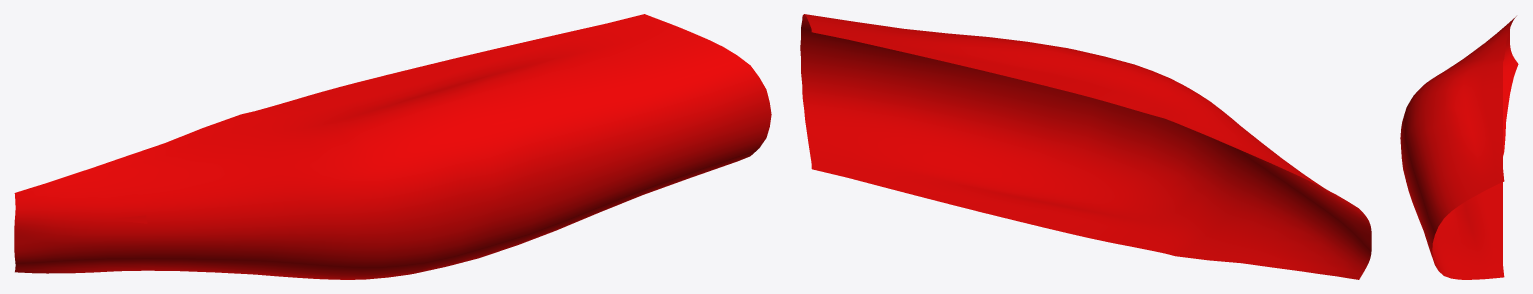
The model's file is rafale_highlight_04_verriere.fbx.
The picture shows the model from 3 angles, left to right: view 1: azimuth 30°, elevation 25°; view 2: azimuth 150°, elevation 25°; view 3: azimuth 270°, elevation 25°; orthographic projection. The views are drawn at different scales.
Parts seen in each view (by area): view 1: rafale_highlight_04_verriere; view 2: rafale_highlight_04_verriere; view 3: rafale_highlight_04_verriere.
Part boxes in pixels (left/top/right/bottom): rafale_highlight_04_verriere: left=14, top=14, right=771, bottom=279; rafale_highlight_04_verriere: left=800, top=14, right=1371, bottom=279; rafale_highlight_04_verriere: left=1400, top=16, right=1518, bottom=279.
Bounding box in the file's own units: 146 × 33.01 × 34.04.
